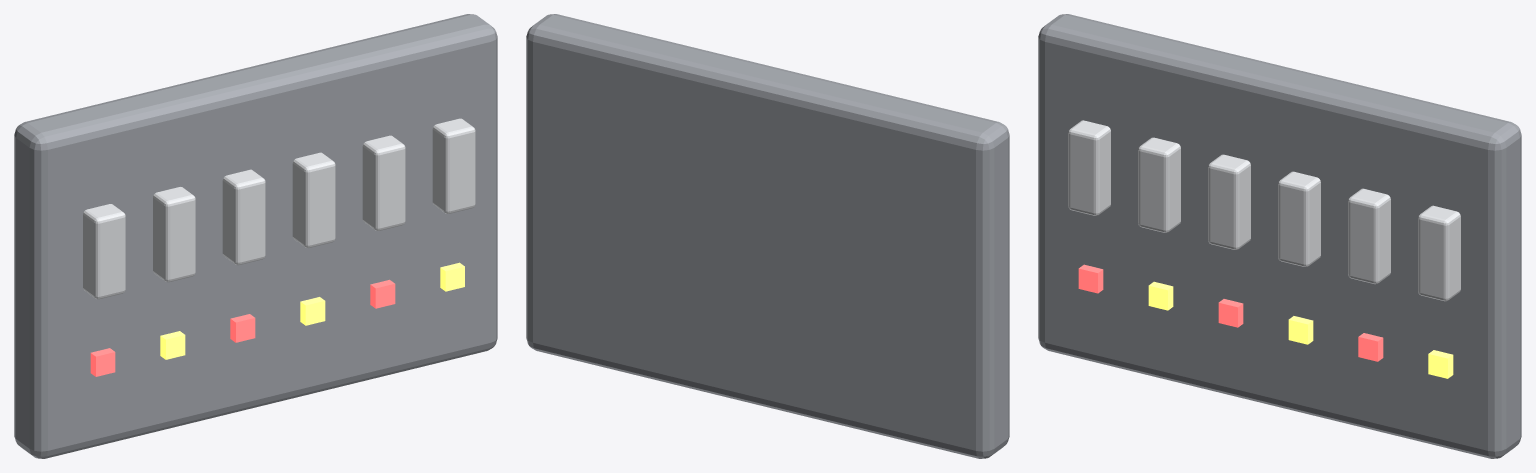
The model's file is control_panel_switch_bank.glb.
The picture shows the model from 3 angles, left to right: view 1: azimuth 30°, elevation 25°; view 2: azimuth 150°, elevation 25°; view 3: azimuth 330°, elevation 25°; orthographic projection.
Visible parts, largest first — view 1: GD_control_panel_switch_bank__m0, GD_control_panel_switch_bank__m1, GD_control_panel_switch_bank__m2, GD_control_panel_switch_bank__m3; view 2: GD_control_panel_switch_bank__m0; view 3: GD_control_panel_switch_bank__m0, GD_control_panel_switch_bank__m1, GD_control_panel_switch_bank__m3, GD_control_panel_switch_bank__m2.
Boxes of the visible parts, x1,y1,x2,y2 form: GD_control_panel_switch_bank__m0: [14, 14, 497, 458]; GD_control_panel_switch_bank__m1: [83, 118, 475, 299]; GD_control_panel_switch_bank__m2: [90, 279, 395, 376]; GD_control_panel_switch_bank__m3: [160, 262, 464, 359]; GD_control_panel_switch_bank__m0: [526, 14, 1009, 458]; GD_control_panel_switch_bank__m0: [1038, 14, 1521, 458]; GD_control_panel_switch_bank__m1: [1068, 120, 1460, 301]; GD_control_panel_switch_bank__m3: [1148, 281, 1453, 378]; GD_control_panel_switch_bank__m2: [1078, 264, 1383, 361].
Size of the model in its own units: 0.6 by 0.4 by 0.09.
